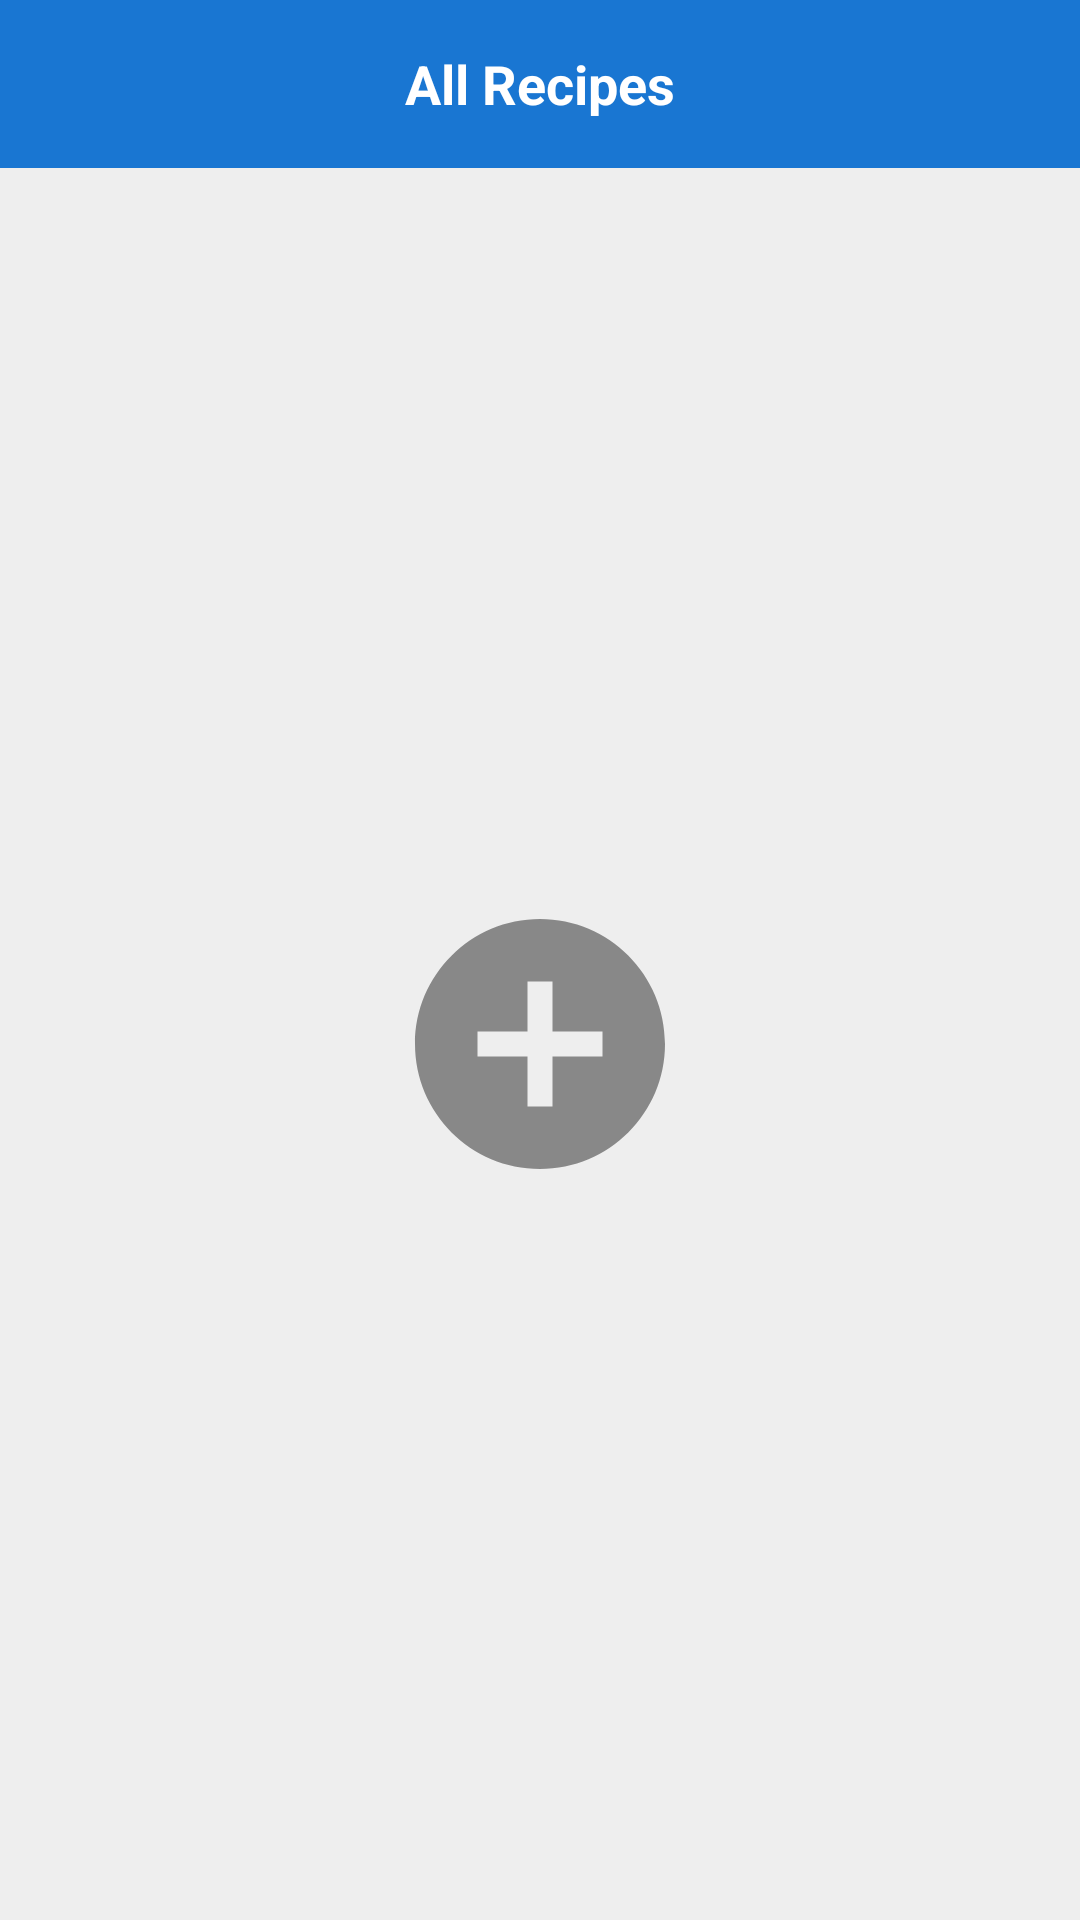

Named icons in this screenshot (1080px x 1920px) and their centers, [x,y]:
add: [540,1044]
